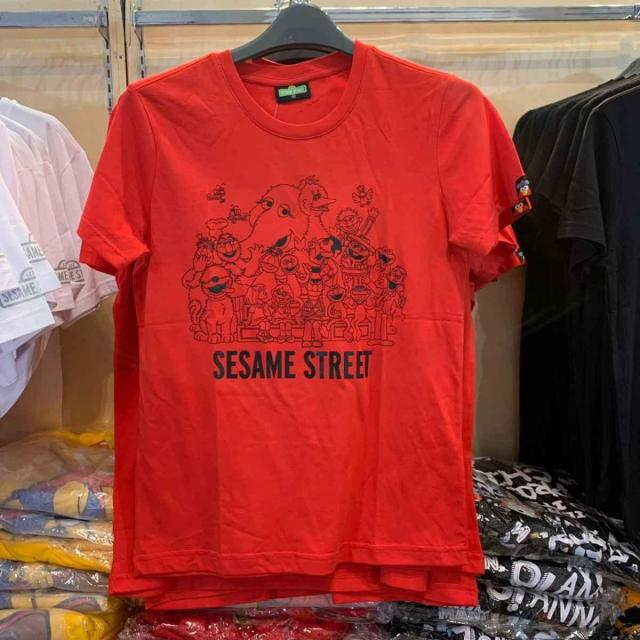Tshirt: (83, 41, 524, 572)
